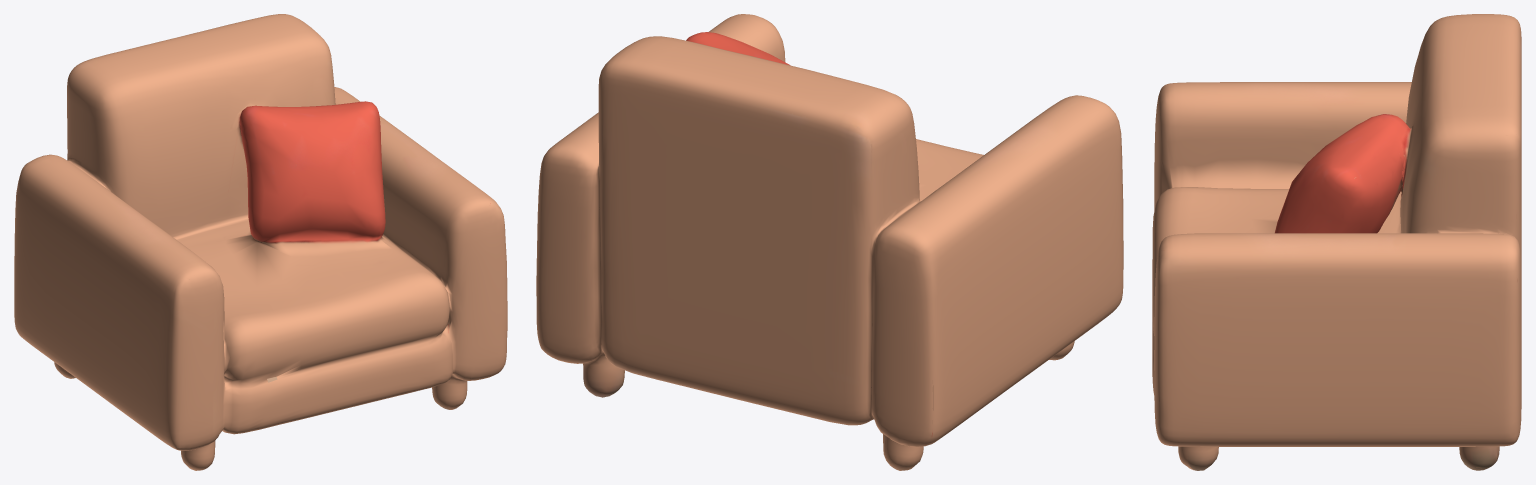
File: CozyChair.glb
3 renders of one model, left to right at view 1: azimuth 30°, elevation 25°; view 2: azimuth 150°, elevation 25°; view 3: azimuth 270°, elevation 25°, orthographic. The views are drawn at different scales.
Parts seen in each view (by area): view 1: Mesh_0; view 2: Mesh_0; view 3: Mesh_0.
Boxes of the visible parts, x1,y1,x2,y2 form: Mesh_0: (14, 14, 507, 470); Mesh_0: (536, 14, 1123, 470); Mesh_0: (1152, 14, 1521, 470).
Bounding box in the file's own units: 2 × 1.69 × 1.7.
1 material, 1 textured.
